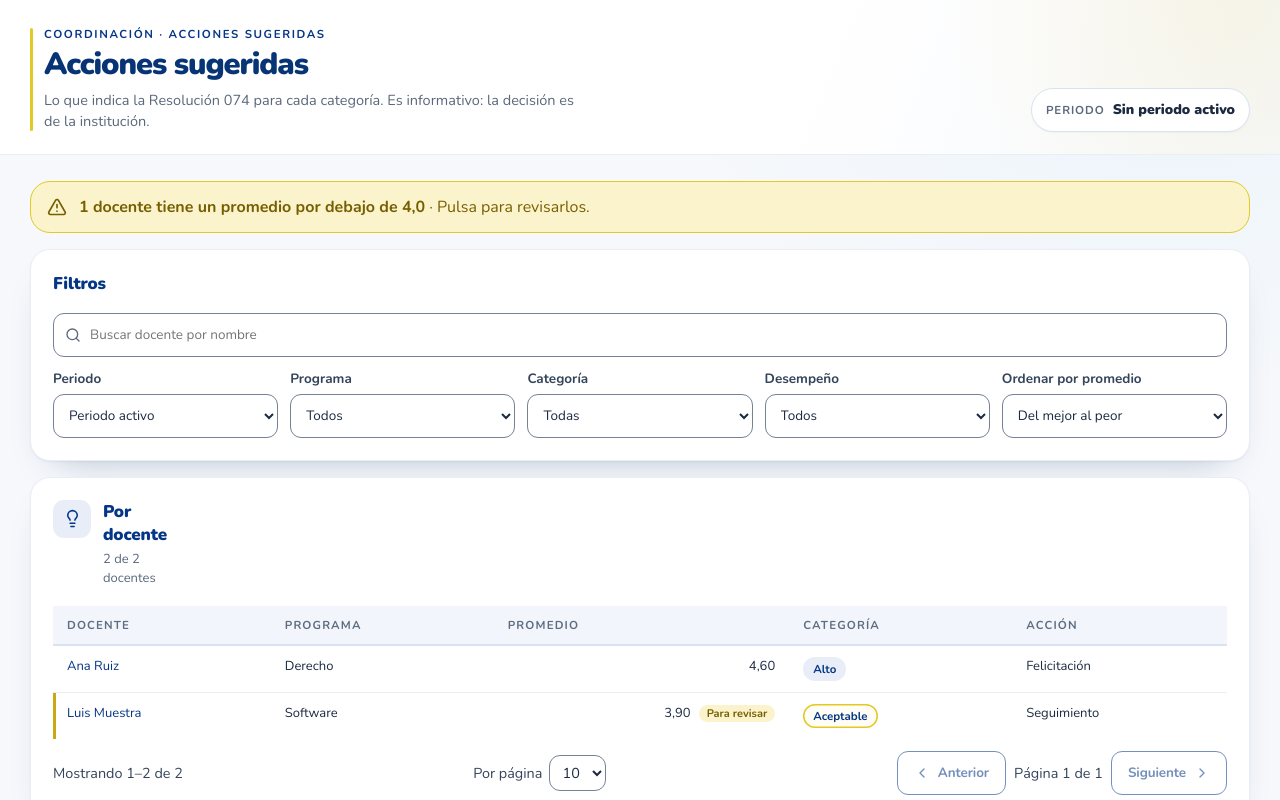
Scenario: AccionesSugeridas › avisa de los promedios por debajo de 4,0 y filtra con un clic
The width and height of the screenshot is (1280, 800).
Click the button "1 docente tiene un promedio por debajo de 4,0". click: click(143, 207)
box: [30,181,1250,233]
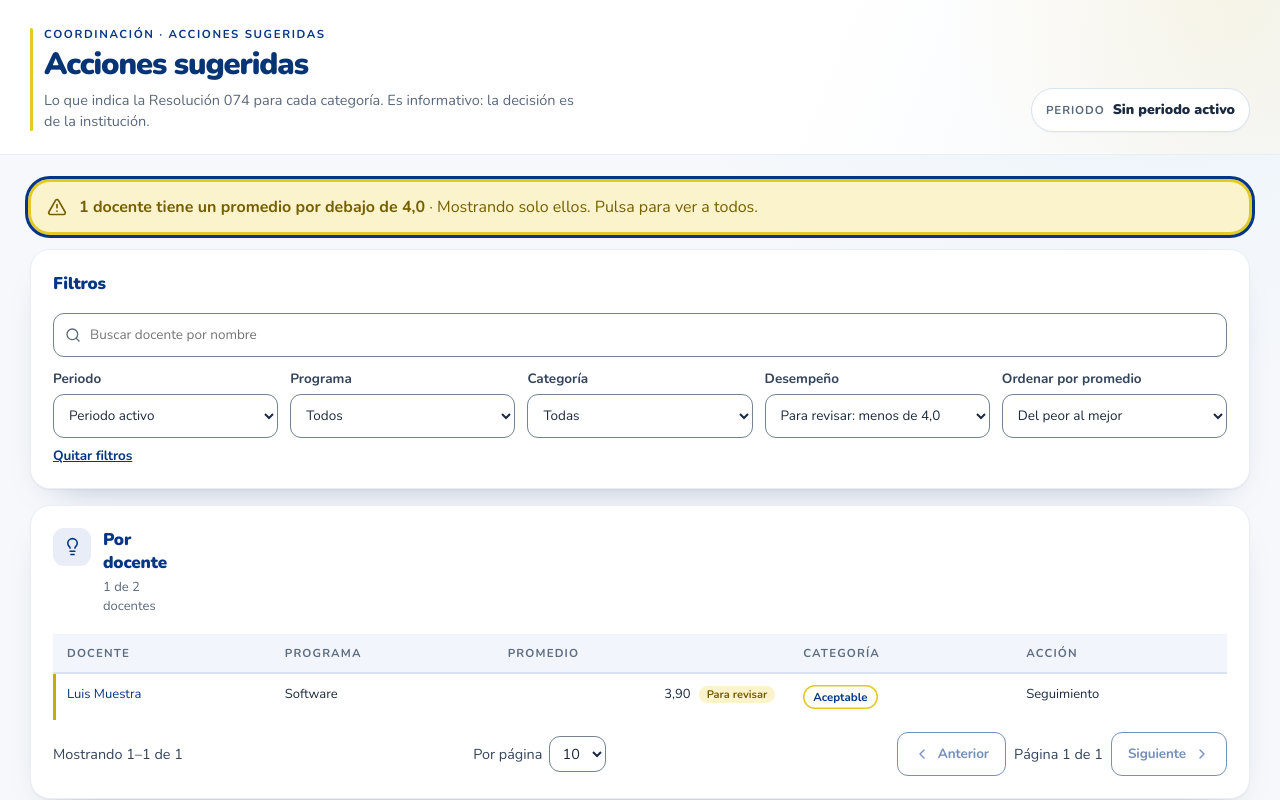
Expected: the link "Luis Muestra" is shown, [67,684,141,702]
Result: the link "Ana Ruiz" is gone
Result: the text "1 de 2 docentes" is shown at [103,578,156,615]
